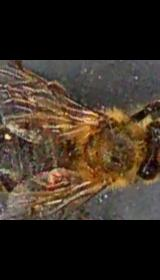varroa_mite: (41, 161, 68, 196)
